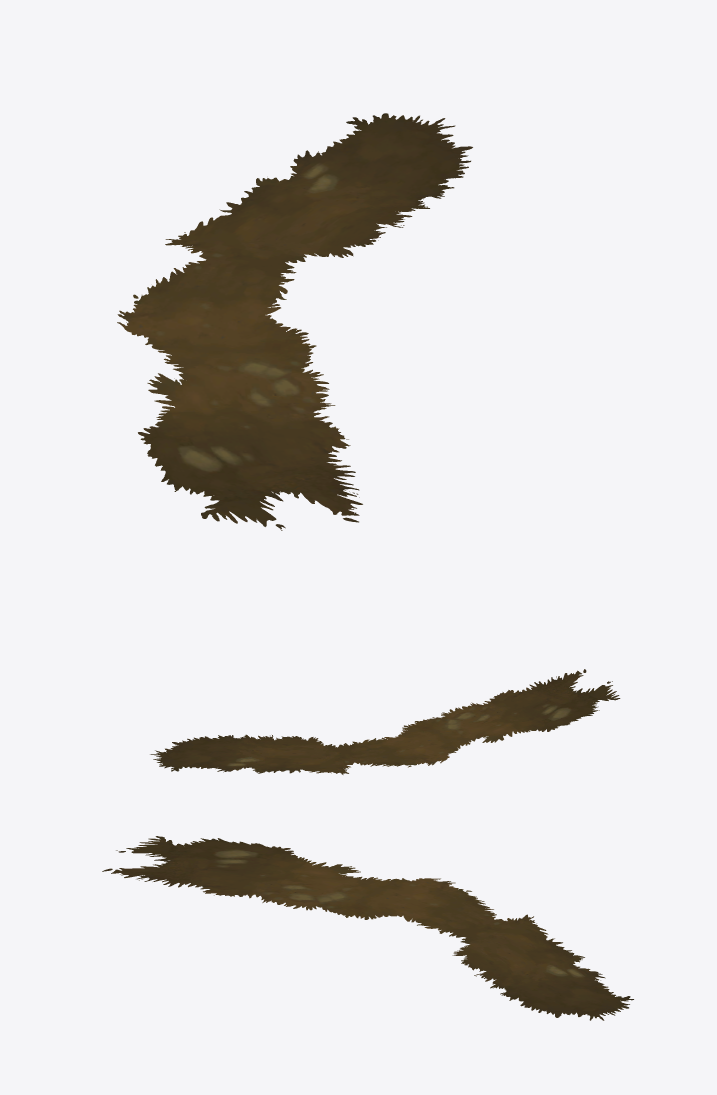
The model's file is road_curve_dirt1a.fbx.
3 views of the same model, one above another, from view 1: azimuth 30°, elevation 25°; view 2: azimuth 150°, elevation 25°; view 3: azimuth 270°, elevation 25° (orthographic). The views are drawn at different scales.
Visible parts, largest first — view 1: obj0.068; view 2: obj0.068; view 3: obj0.068.
Part boxes in pixels (bbox=[...]): obj0.068: bbox=[117, 113, 472, 530]; obj0.068: bbox=[150, 669, 620, 774]; obj0.068: bbox=[102, 836, 633, 1020].
Bounding box in the file's own units: 19.06 × 2.57e-06 × 20.87.
